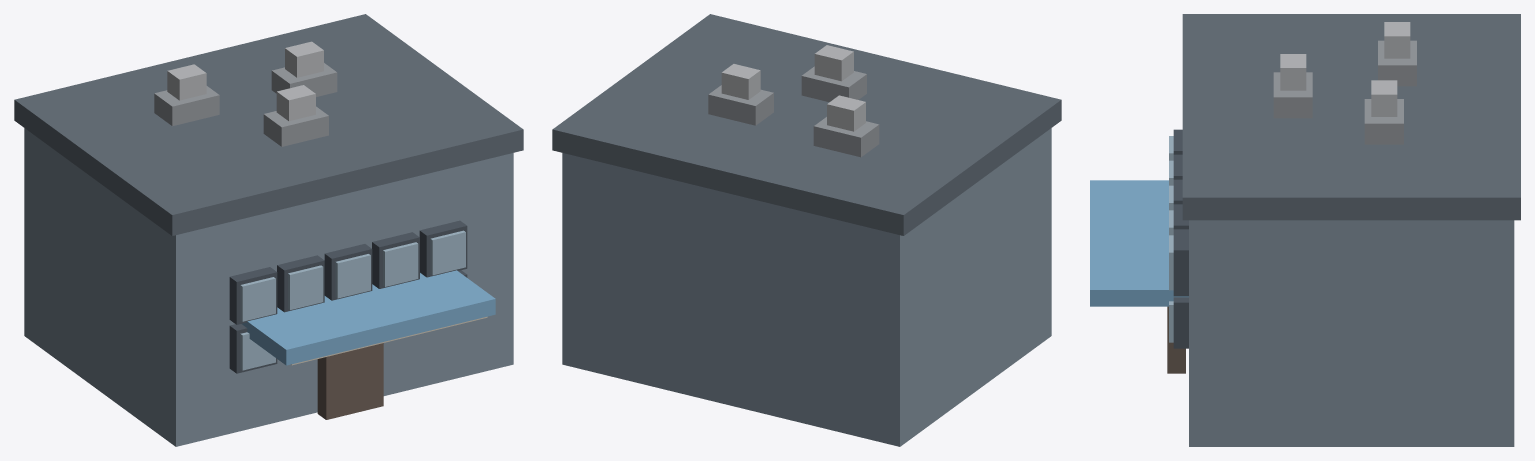
File: hardware_shop.glb
3 renders of one model, left to right at view 1: azimuth 30°, elevation 25°; view 2: azimuth 150°, elevation 25°; view 3: azimuth 270°, elevation 25°, orthographic. The views are drawn at different scales.
Visible parts, largest first — view 1: world; view 2: world; view 3: world.
Part boxes in pixels (x1,y1,x2,y2): world: [14, 14, 523, 446]; world: [552, 14, 1061, 446]; world: [1090, 14, 1520, 446].
Bounding box in the file's own units: 1.4 × 1.06 × 1.39.
